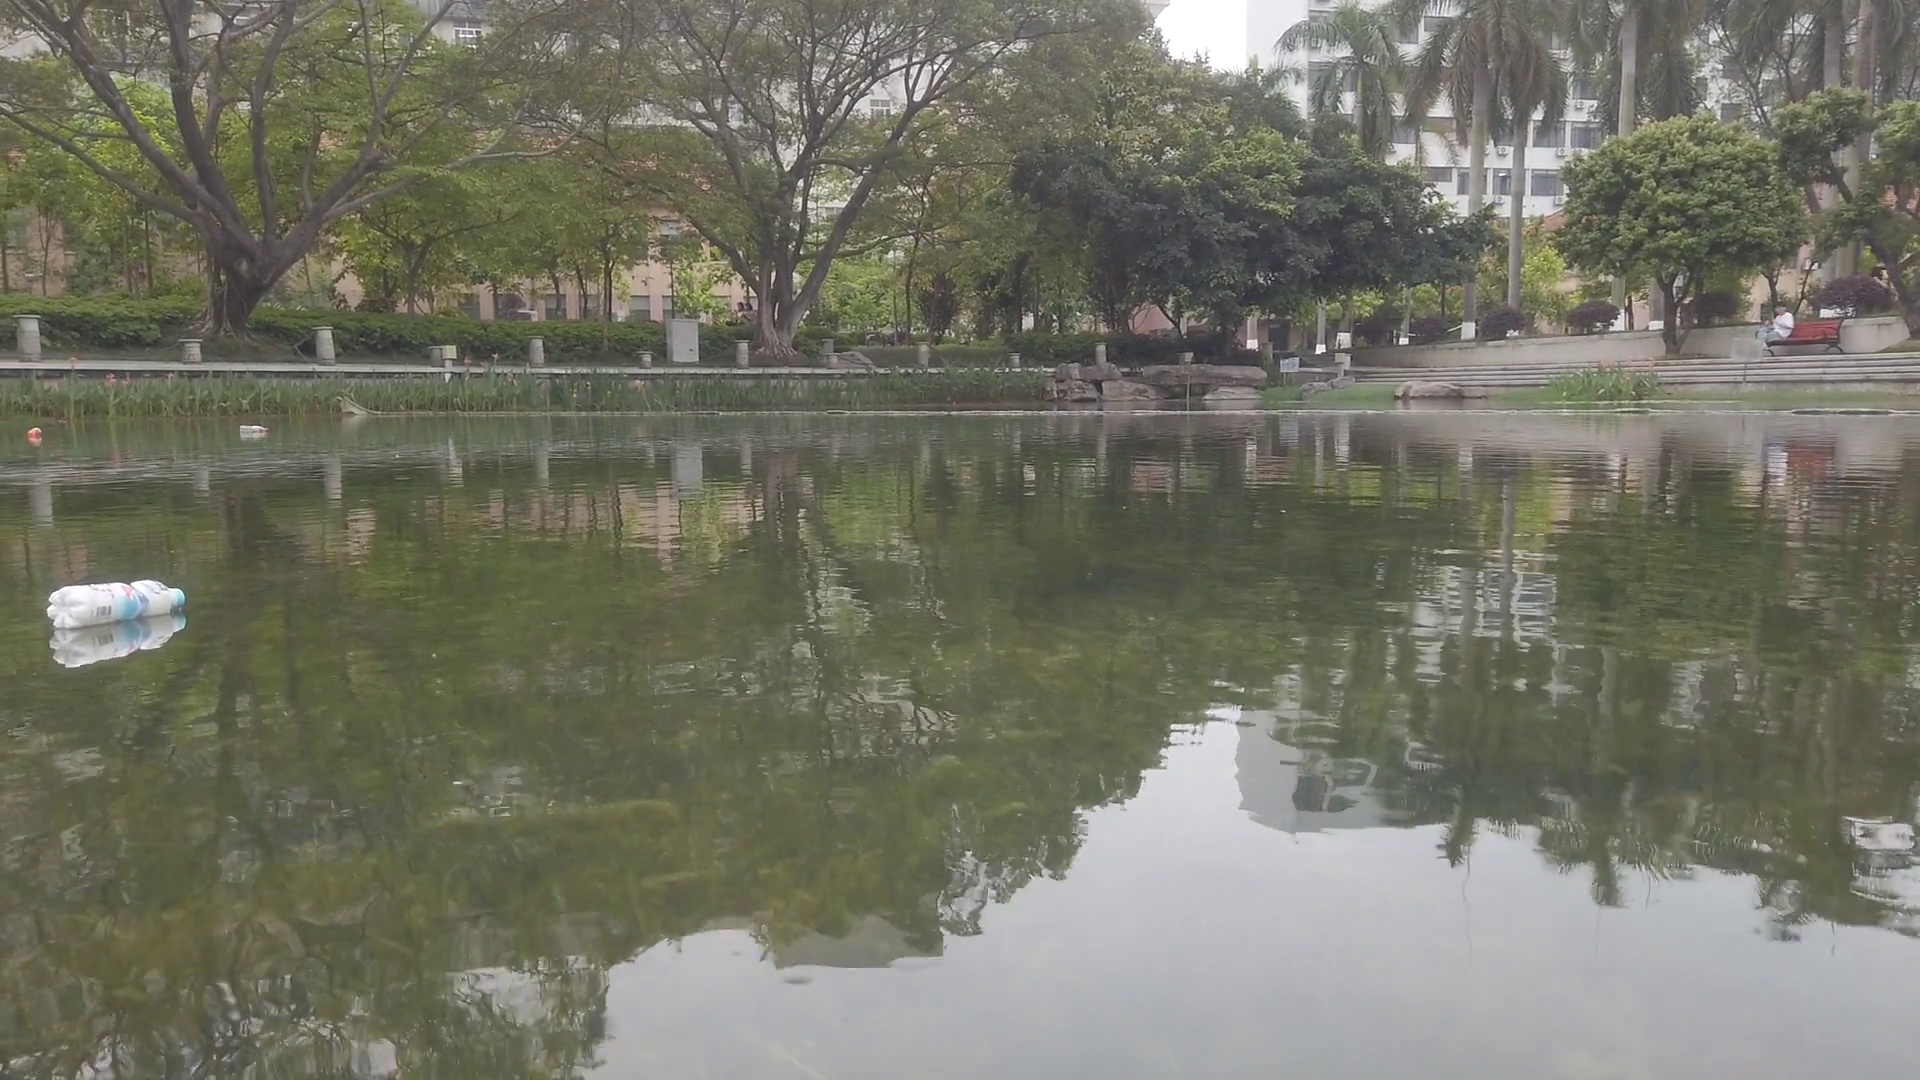bottle: (50, 582, 189, 632), (236, 422, 273, 436)
